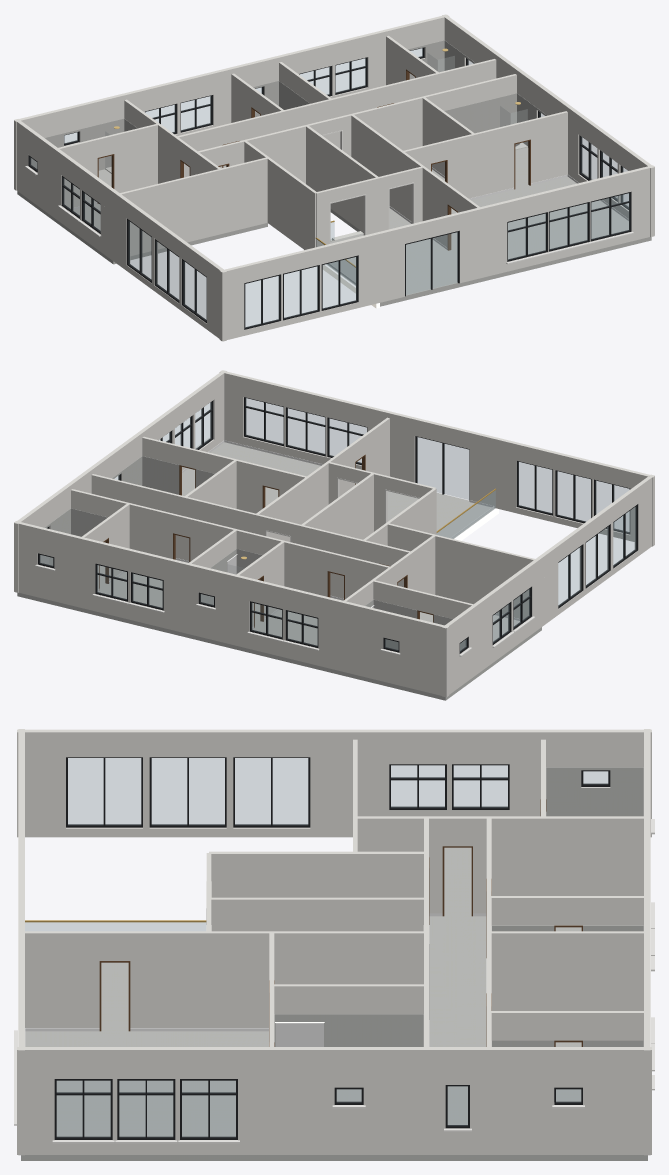
The model's file is int_est_S3_1.glb.
3 views of the same model, one above another, from view 1: azimuth 30°, elevation 25°; view 2: azimuth 150°, elevation 25°; view 3: azimuth 270°, elevation 25° (orthographic). The views are drawn at different scales.
Parts seen in each view (by area): view 1: WALL_0, ROOM, WALL_14, WALL_5, WALL_4, WALL_9, WALL_7, WALL_10, WALL_15, WALL_2, WALL_12, WALL_1 (+7 smaller); view 2: WALL_14, WALL_0, ROOM, WALL_5, WALL_15, WALL_7, WALL_10, WALL_4, WALL_2, WALL_9, WALL_8, WALL_13 (+7 smaller); view 3: WALL_10, WALL_5, ROOM, WALL_2, WALL_13, WALL_3, WALL_1, WALL_8, WALL_17, WALL_16, WALL_11, WALL_4 (+5 smaller).
Boxes of the visible parts, left/top/right/bottom form: WALL_0: left=219, top=165, right=654, bottom=341; ROOM: left=17, top=40, right=651, bottom=308; WALL_14: left=14, top=14, right=449, bottom=190; WALL_5: left=14, top=119, right=226, bottom=341; WALL_4: left=100, top=157, right=267, bottom=255; WALL_9: left=402, top=111, right=567, bottom=198; WALL_7: left=198, top=74, right=516, bottom=183; WALL_10: left=442, top=14, right=654, bottom=236; WALL_15: left=177, top=59, right=496, bottom=177; WALL_2: left=351, top=115, right=479, bottom=250; WALL_12: left=58, top=123, right=158, bottom=208; WALL_1: left=244, top=140, right=316, bottom=249; WALL_14: left=14, top=521, right=449, bottom=696; WALL_0: left=219, top=370, right=654, bottom=546; ROOM: left=17, top=440, right=541, bottom=700; WALL_5: left=442, top=474, right=654, bottom=697; WALL_15: left=71, top=489, right=389, bottom=599; WALL_7: left=91, top=474, right=410, bottom=598; WALL_10: left=14, top=370, right=226, bottom=592; WALL_4: left=387, top=523, right=558, bottom=619; WALL_2: left=256, top=417, right=389, bottom=541; WALL_9: left=142, top=436, right=307, bottom=513; WALL_8: left=301, top=473, right=373, bottom=539; WALL_13: left=343, top=535, right=435, bottom=605; WALL_10: left=17, top=1047, right=651, bottom=1154; WALL_5: left=17, top=729, right=651, bottom=837; ROOM: left=21, top=767, right=647, bottom=1160; WALL_2: left=25, top=931, right=423, bottom=1031; WALL_13: left=355, top=816, right=643, bottom=916; WALL_3: left=489, top=931, right=643, bottom=1010; WALL_1: left=209, top=851, right=426, bottom=897; WALL_8: left=211, top=897, right=426, bottom=931; WALL_17: left=489, top=1011, right=643, bottom=1046; WALL_16: left=489, top=896, right=643, bottom=931; WALL_11: left=271, top=984, right=426, bottom=1013; WALL_4: left=310, top=739, right=389, bottom=851.
Size of the model in its own units: 23.83 by 3.9 by 19.93.
13 materials, 1 textured.
